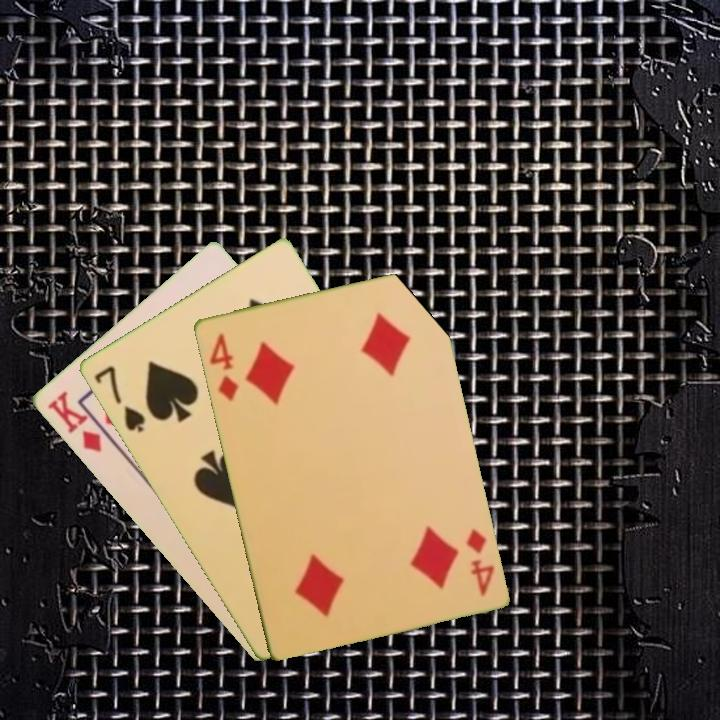4d: (205, 328, 241, 404), (462, 525, 497, 599)
7s: (90, 362, 148, 436)
Kd: (43, 387, 116, 456)
